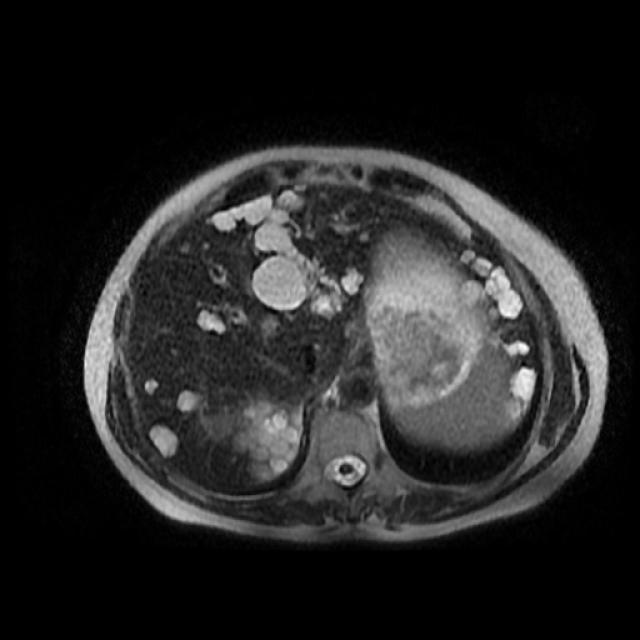sag: (233, 398, 301, 483)
